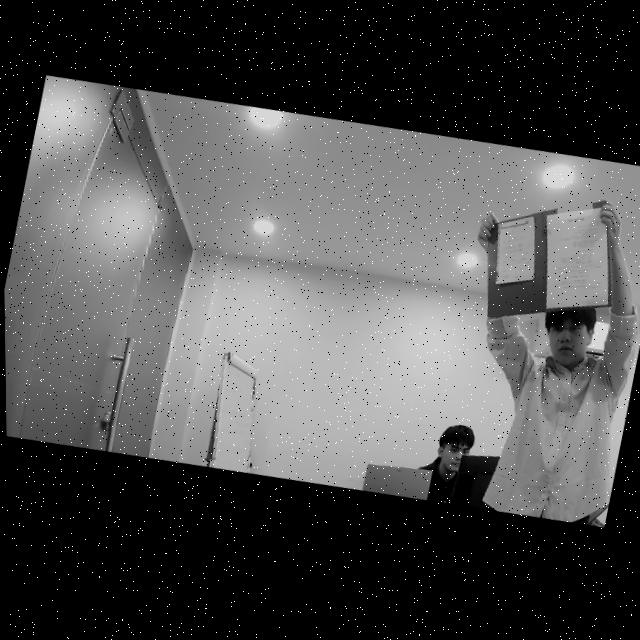document: (545, 207, 608, 308), (496, 216, 534, 284)
